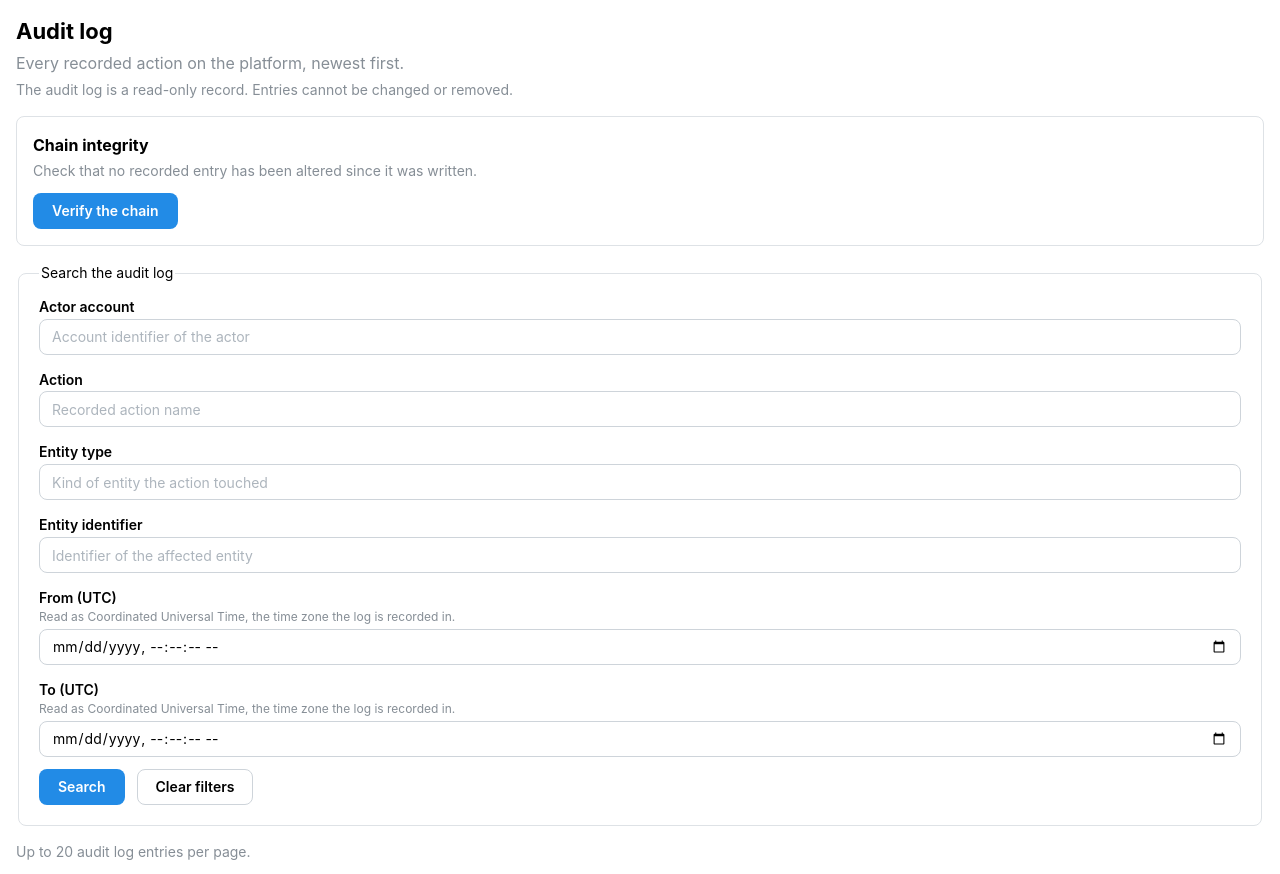
chain verification (Req 17 AC6, AC7) › renders a tampering alert naming `first_bad_id` when `ok` is false (AC7)
Click the button with test id "audit-chain-verify-run" at (105, 211), box top-left (33, 193), bottom-right (178, 229)
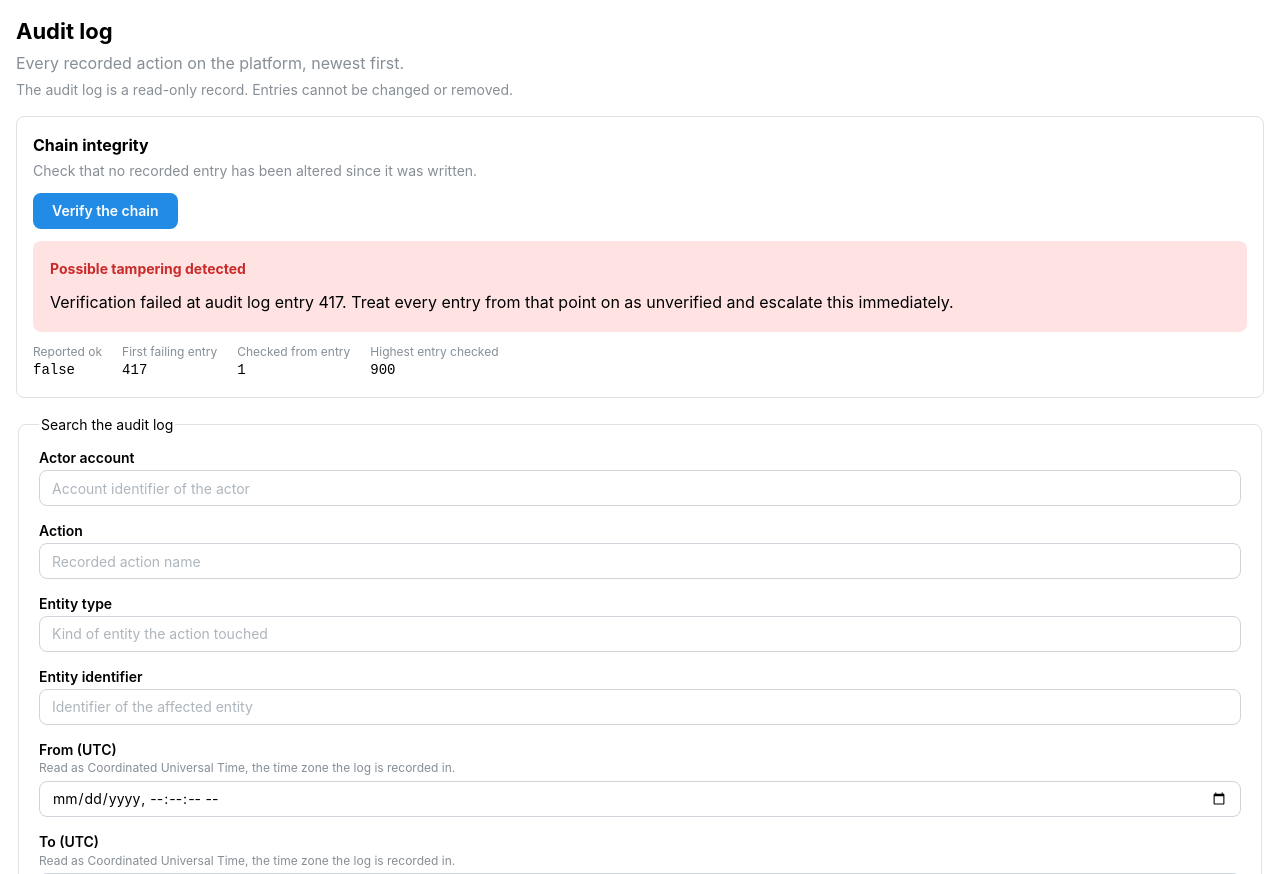
Expected: the text with test id "audit-chain-tampered-message" shows "417", top-left (50, 292), bottom-right (954, 312)
Expected: the element with test id "audit-chain-ok" reads "false", top-left (33, 362), bottom-right (75, 378)
Expected: the text with test id "audit-chain-first-bad-id" reads "417", top-left (122, 362), bottom-right (147, 378)
